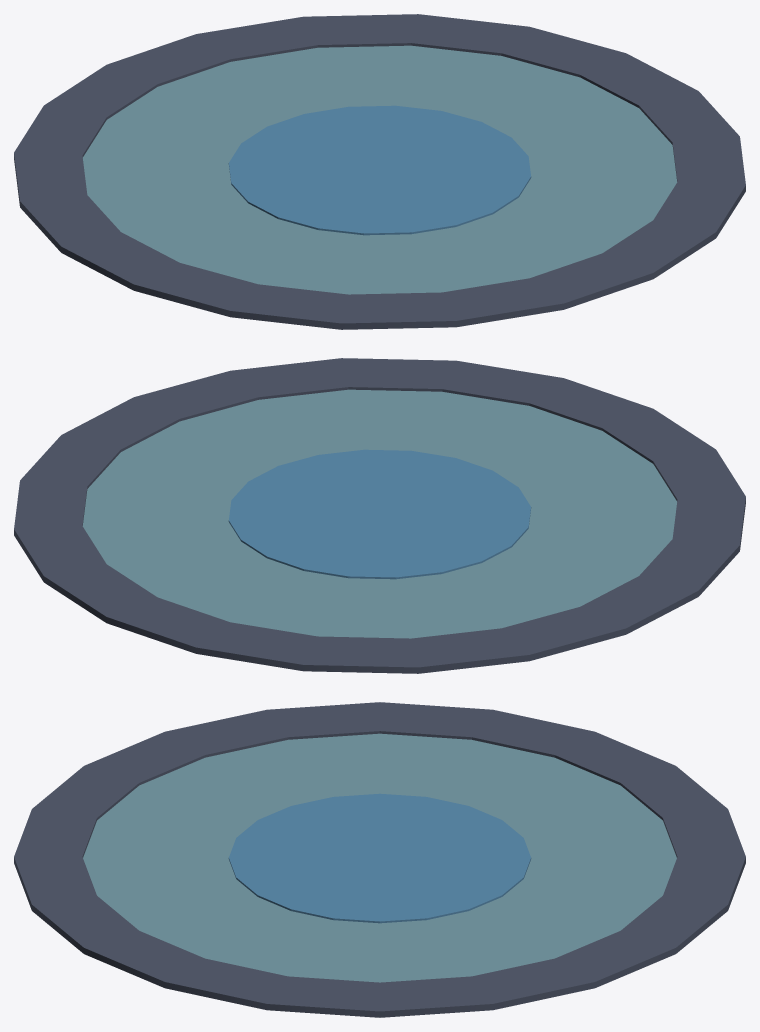
Rendered from g_o_carpet_01.fbx.
3 views of the same model, one above another, from view 1: azimuth 30°, elevation 25°; view 2: azimuth 150°, elevation 25°; view 3: azimuth 270°, elevation 25° (orthographic).
Parts seen in each view (by area): view 1: g_o_carpet_01; view 2: g_o_carpet_01; view 3: g_o_carpet_01.
Boxes of the visible parts, bbox=[...] form: g_o_carpet_01: bbox=[14, 14, 745, 329]; g_o_carpet_01: bbox=[14, 358, 745, 673]; g_o_carpet_01: bbox=[14, 702, 745, 1017].
Size of the model in its own units: 1.61 by 0.0154 by 1.61.
